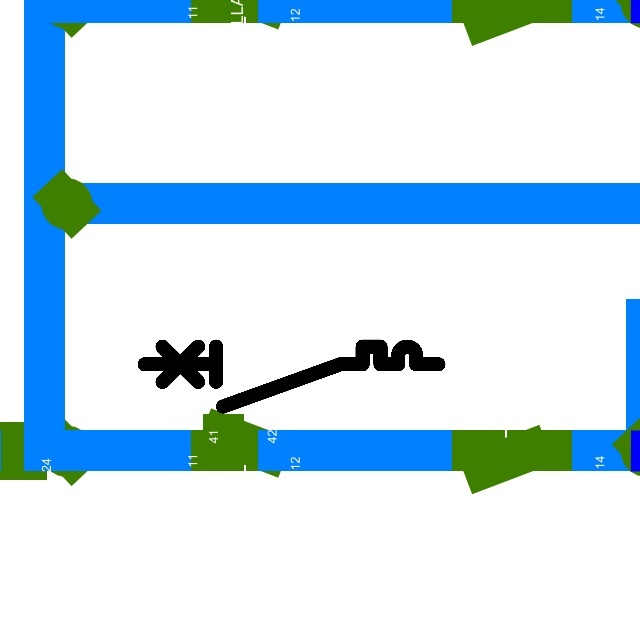interruptor_termomagnetico: (137, 339, 446, 414)
